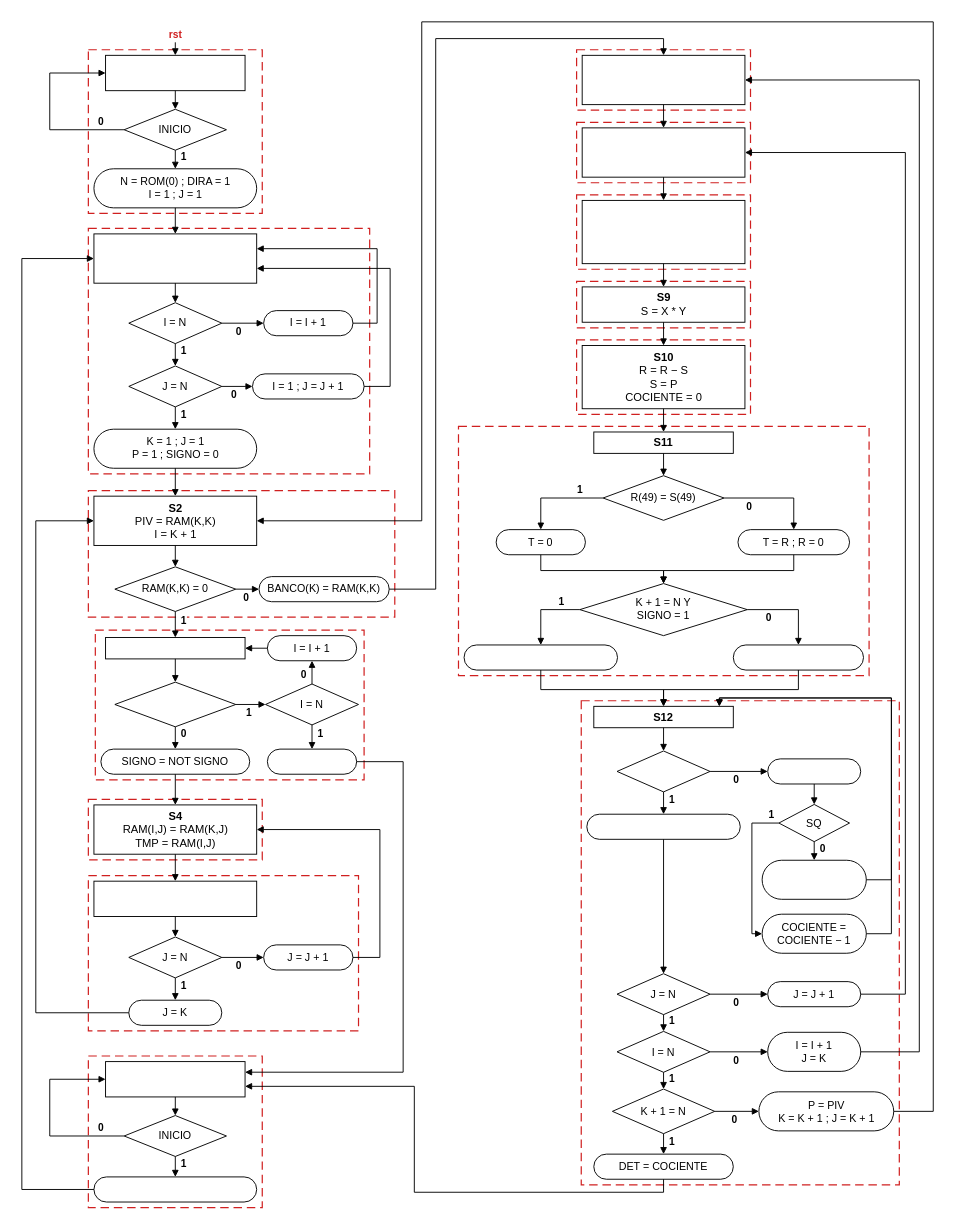
Some shapes in this 956 by 1225 pixel diagram are drawn without their labels. Here are the shapes that lost their labels. From the top down, the centre of each, then its label:
At (x=175, y=72): "S0 FINAL = 0".
At (x=663, y=79): "S6 AIK = RAM(I,K) J = K + 1".
At (x=663, y=152): "S7 X = PIV Y = RAM(I,J)".
At (x=663, y=231): "S8 R = X * Y X = AIK Y = RAM(K,J)".
At (x=175, y=258): "S1 RAM(I,J) = ROM(DIRA) DIRA = DIRA + 1".
At (x=175, y=648): "S3".
At (x=540, y=657): "SQ = NOT (R(49) ⊕ S(49))".
At (x=798, y=657): "SQ = R(49) ⊕ S(49)".
At (x=175, y=704): "RAM(I,K) = 0".
At (x=311, y=761): "DET = 0".
At (x=663, y=771): "R = T".
At (x=814, y=771): "R = R − S".
At (x=663, y=826): "RAM(I,J) = COCIENTE".
At (x=175, y=898): "S5 RAM(K,J) = TMP".
At (x=813, y=879): "COCIENTE = COCIENTE + 1".
At (x=175, y=1079): "S13 FINAL = 1".
At (x=175, y=1189): "DIRA = 1 ; I = 1 ; J = 1".
